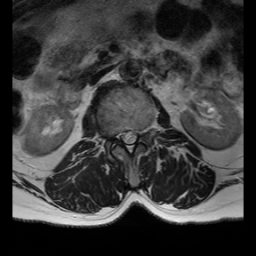CCS_normal: (126, 120, 132, 160)
LFS_stenosis: (139, 120, 146, 143)
LLS_normal: (132, 122, 139, 150)
RFS_severe_stenosis: (112, 121, 119, 147)
RLS_stenosis: (119, 122, 126, 150)
